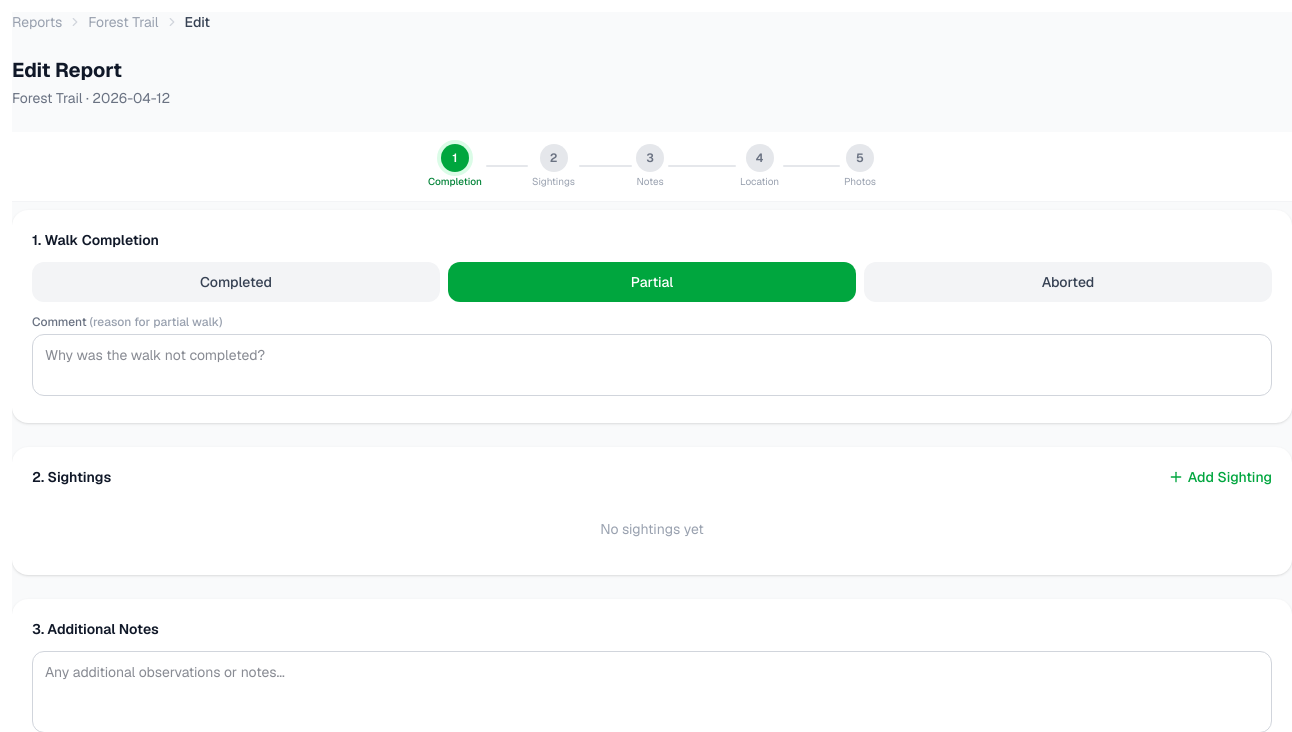
Scenario: Completion comment label text › shows "aborted" in the label when ABORTED is selected
This screenshot has width=1292, height=732.
Click the button "Aborted".
click(1068, 282)  # box [864,262,1272,302]
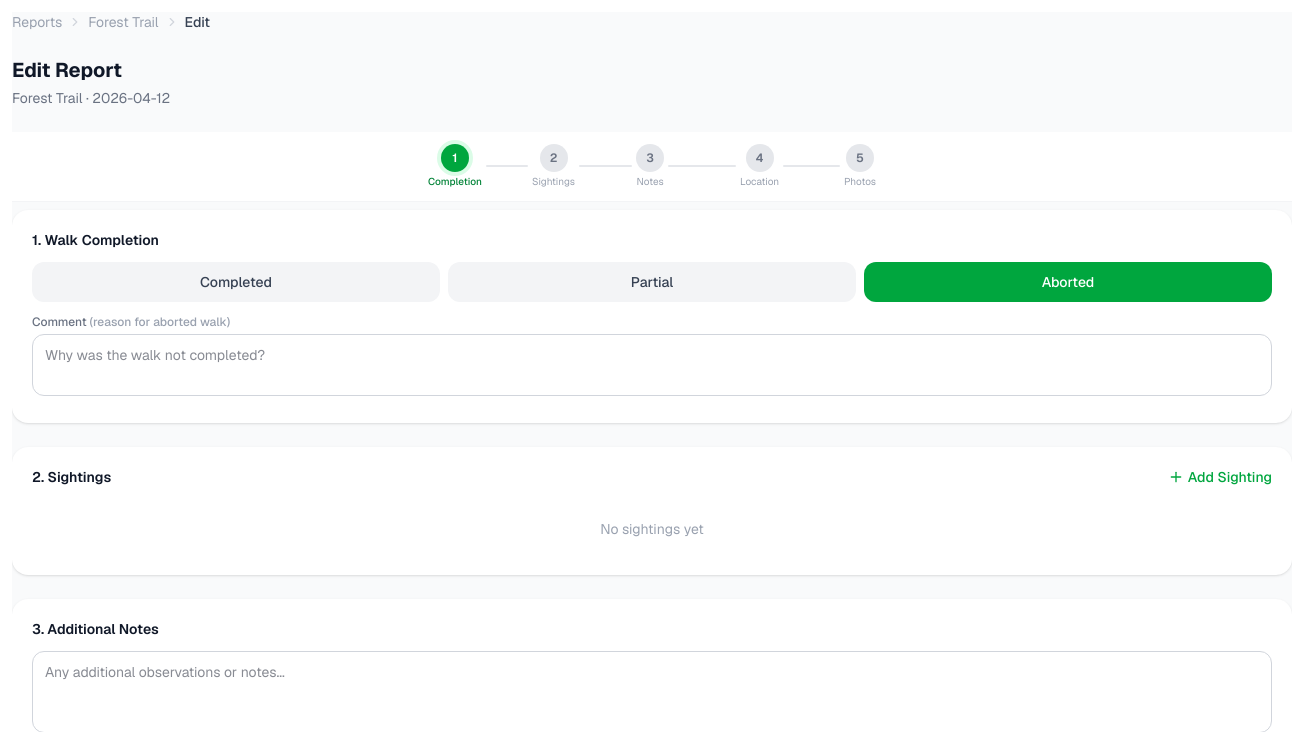
Expected: the text "(reason for aborted walk)" is shown, [90,314,230,330]
